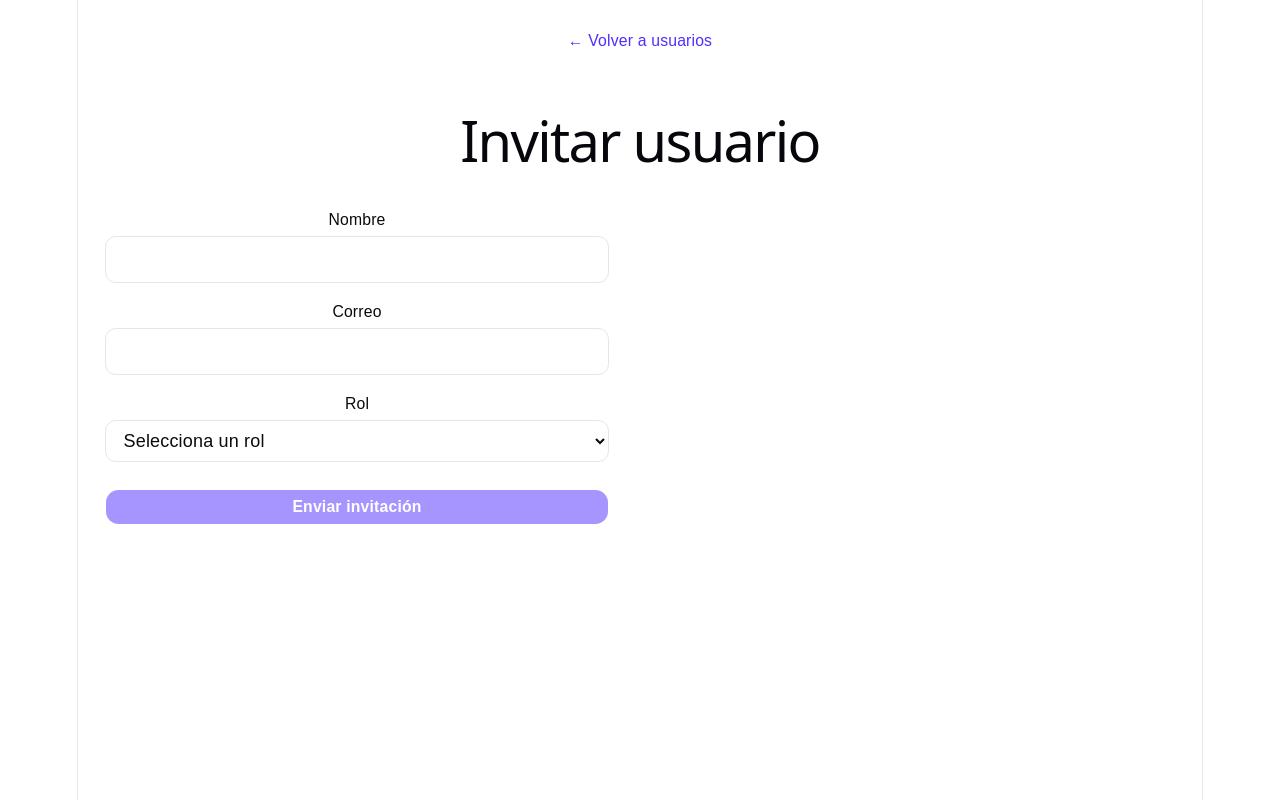
InvitarUsuarioPage — mapeo de respuestas › 422 → error general SIN perder lo capturado en el formulario
This screenshot has width=1280, height=800.
Type "Ana" into the field labelled "Nombre" at x=357, y=260, box [105,236,609,283]
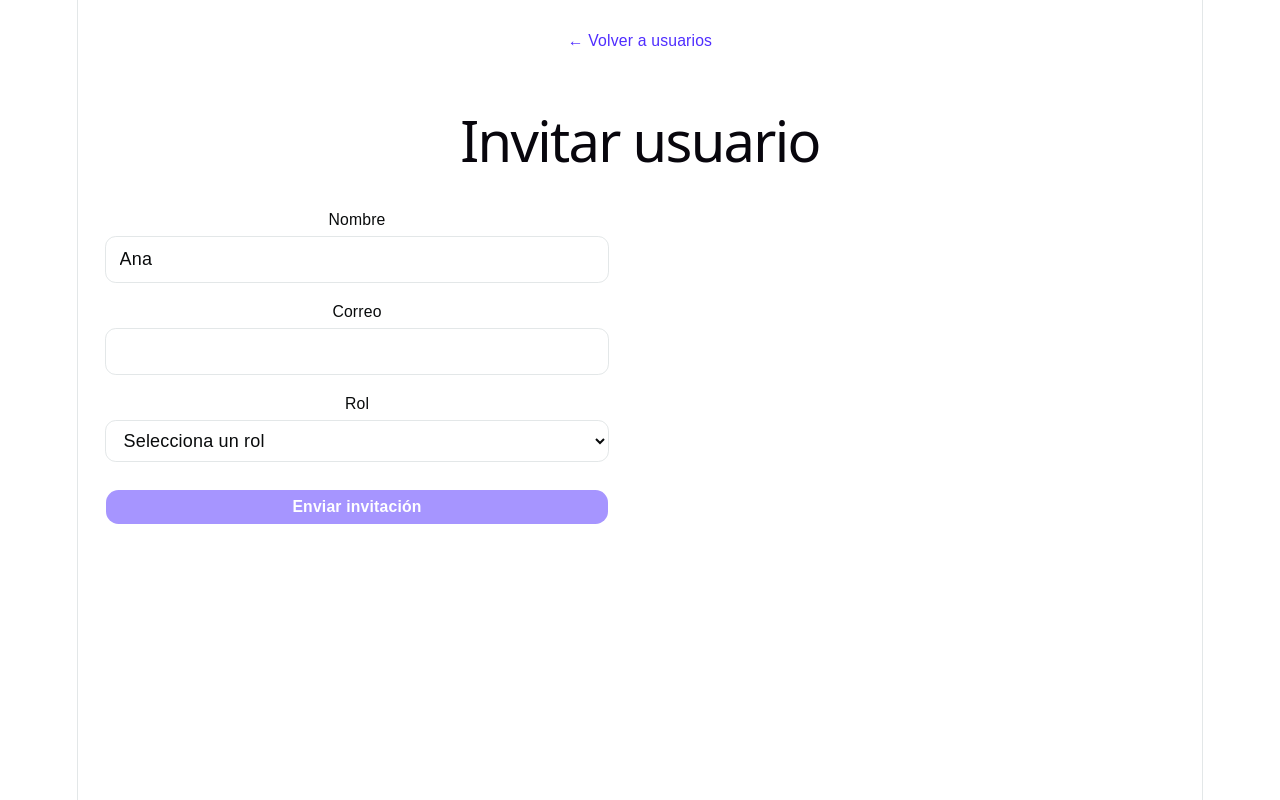
Type "ana@x.com" into the field labelled "Correo" at x=357, y=352, box [105,328,609,375]
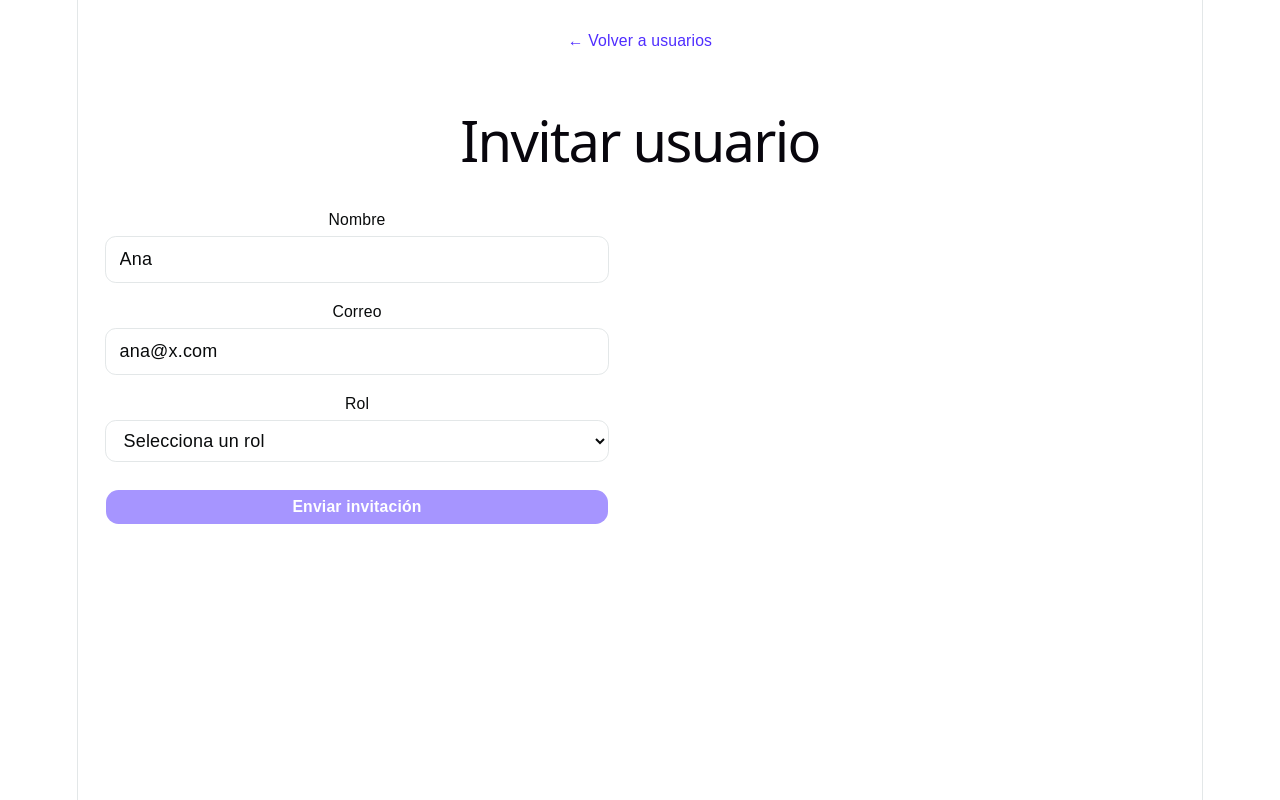
Select "Administrador" in the dropdown labelled "Rol" at x=357, y=441, box [105,420,609,462]
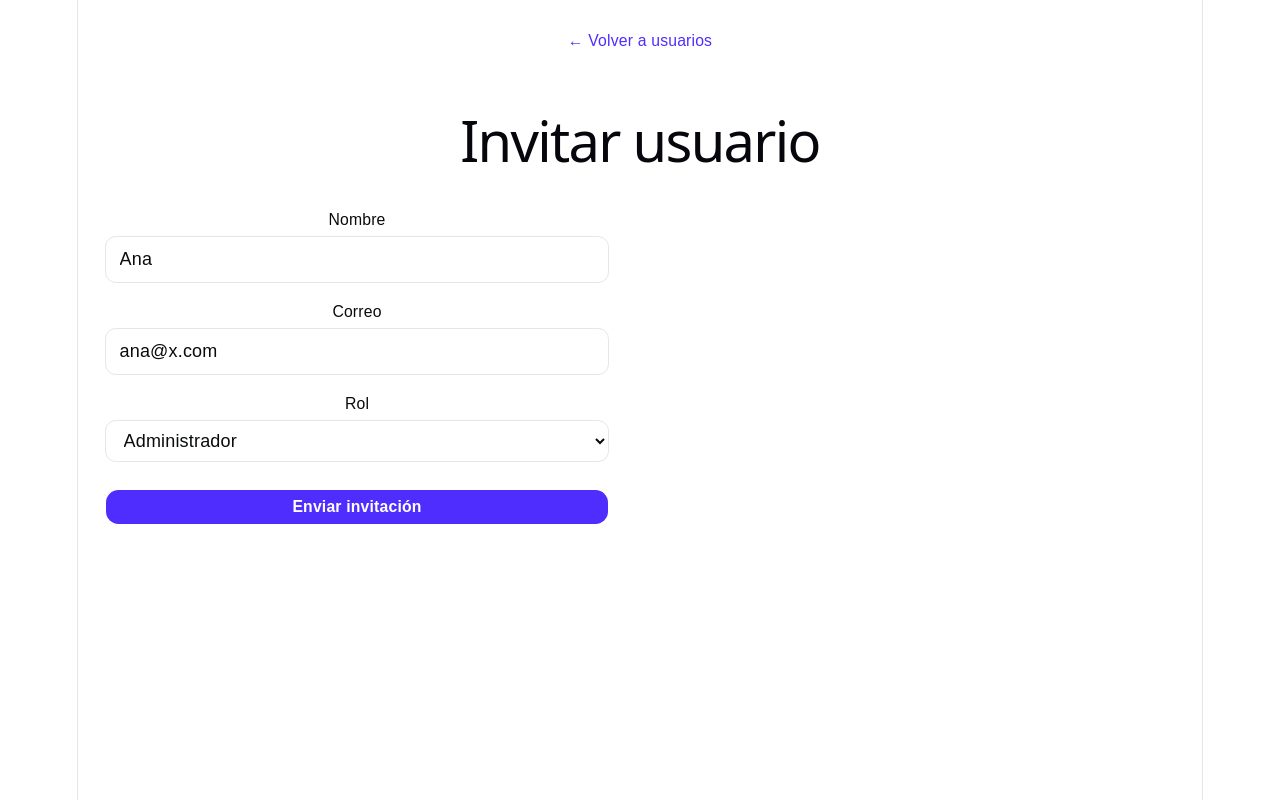
Click the button "Enviar invitación" at x=357, y=507, box [105,489,609,525]
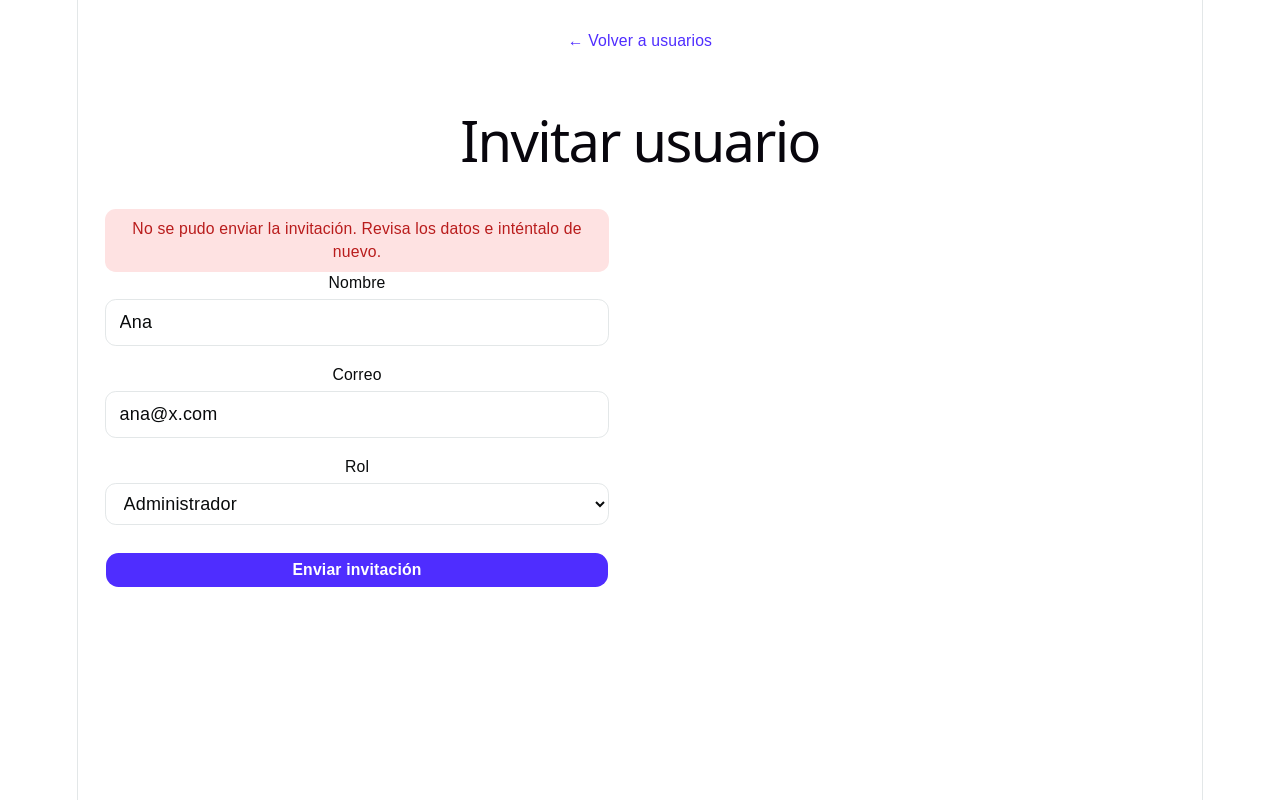
Expected: the message shows "No se pudo enviar la invitación", [132,220,582,260]
